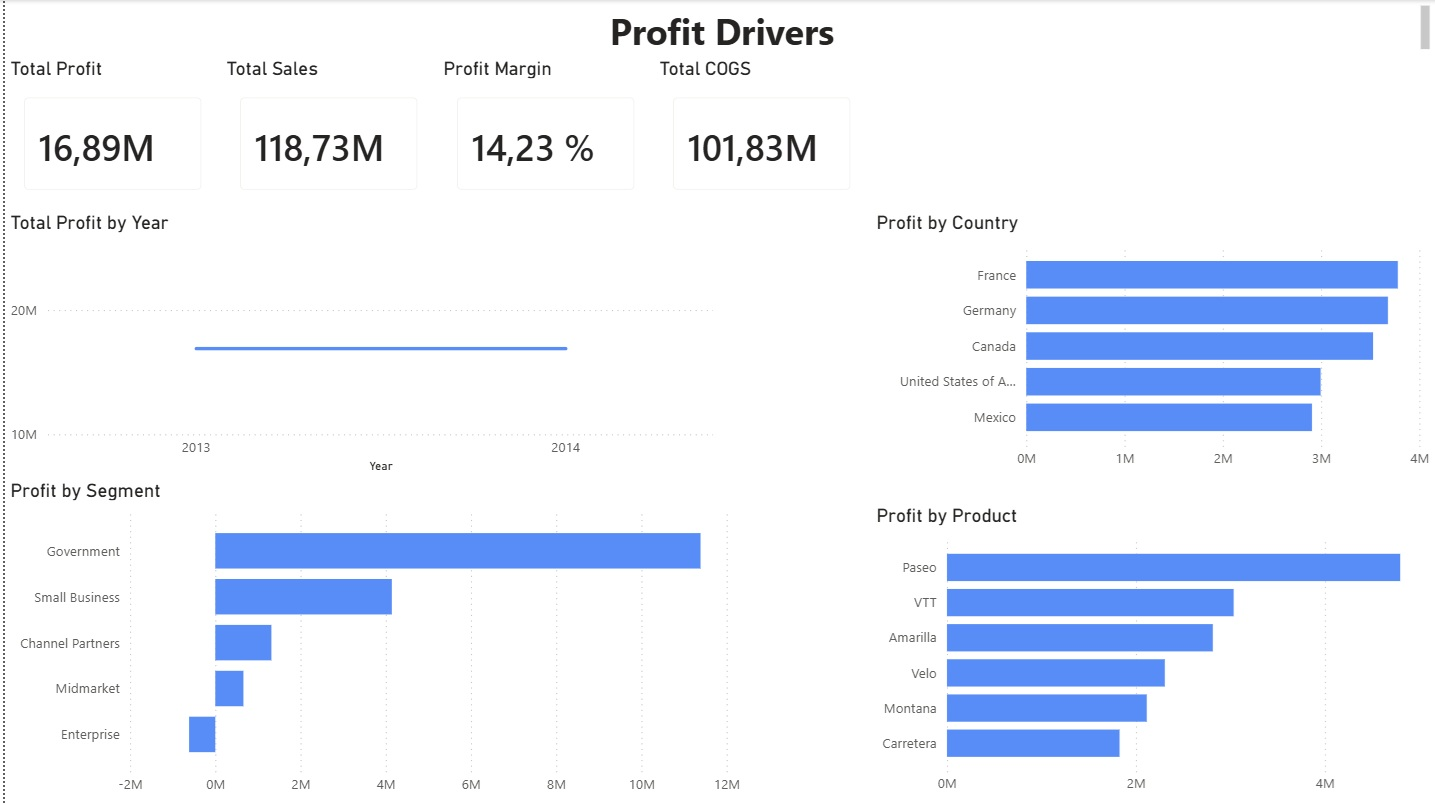

The page's visual inventory and layout, read from the dashboard file:
{"tool":"powerbi","page":{"name":"Profit Drivers","canvas":[1280,720],"ordinal":2},"visuals":[{"type":"textbox","box":[10.5,0,1269.7,51.4],"z":0},{"type":"cardVisual","title":"Total Profit","fields":{"Data":["DateTable.Total Profit"]},"box":[0,51.4,193.8,137.1],"z":1},{"type":"cardVisual","title":"Total Sales","fields":{"Data":["DateTable.Total Sales"]},"box":[193.8,51.4,193.8,137.1],"z":2},{"type":"cardVisual","title":"Profit Margin","fields":{"Data":["DateTable.Profit Margin"]},"box":[387.6,51.4,193.8,137.1],"z":3},{"type":"cardVisual","title":"Total COGS","fields":{"Data":["DateTable.Total COGS"]},"box":[581.5,51.4,193.8,137.1],"z":4},{"type":"lineChart","fields":{"Category":["Budget.Year"],"Y":["DateTable.Total Profit"]},"box":[0,188.5,639.5,240],"z":5},{"type":"clusteredBarChart","title":"Profit by Segment","fields":{"Category":["financials.Segment"],"Y":["Sum(financials.Profit)"]},"box":[0,428.5,663.2,291.4],"z":6},{"type":"clusteredBarChart","title":"Profit by Country","fields":{"Y":["Sum(financials.Profit)"],"Category":["financials.Country"]},"box":[775.3,188.5,505,240],"z":7},{"type":"clusteredBarChart","title":"Profit by Product","fields":{"Y":["Sum(financials.Profit)"],"Category":["financials.Product"]},"box":[775.3,450.9,505,269],"z":8}]}

Visuals, with their boxes in screenshot pixels (x1, y1, x2, y2), scaled from the page's 1280x720 canvas onto the 1435x803 screenshot:
textbox: (12, 0, 1434, 57)
"Total Profit" cardVisual: (0, 57, 217, 210)
"Total Sales" cardVisual: (217, 57, 435, 210)
"Profit Margin" cardVisual: (435, 57, 652, 210)
"Total COGS" cardVisual: (652, 57, 869, 210)
lineChart - Budget.Year x DateTable.Total Profit: (0, 210, 717, 478)
"Profit by Segment" clusteredBarChart: (0, 478, 744, 802)
"Profit by Country" clusteredBarChart: (869, 210, 1434, 478)
"Profit by Product" clusteredBarChart: (869, 503, 1434, 802)
